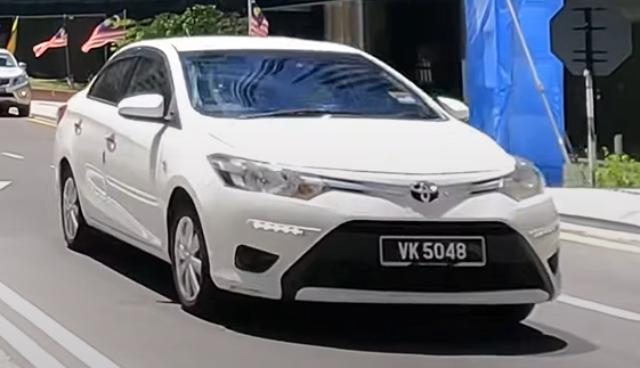License_Plate: (378, 235, 488, 269)
car: (53, 35, 564, 328)
